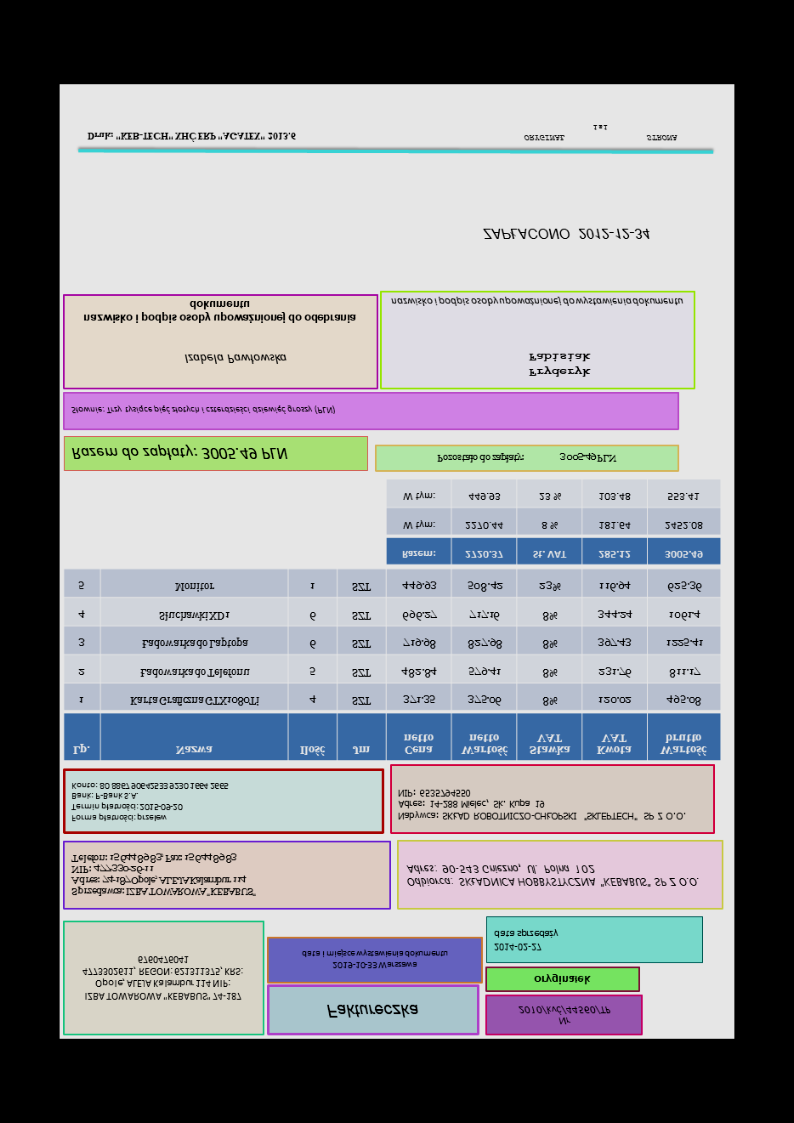Table: (62, 567, 722, 762), (384, 479, 723, 567)
TextBox: (396, 787, 688, 823), (69, 851, 258, 900), (80, 954, 245, 1004), (403, 863, 701, 889), (82, 298, 357, 325), (69, 781, 229, 825), (388, 295, 685, 310), (70, 445, 290, 463), (299, 947, 451, 971), (523, 123, 678, 144), (70, 404, 338, 416), (84, 128, 298, 143), (480, 224, 653, 242), (516, 1001, 613, 1028), (434, 451, 618, 465), (526, 351, 594, 379), (492, 926, 559, 953), (326, 1002, 419, 1020), (183, 352, 288, 366), (531, 972, 592, 987)
